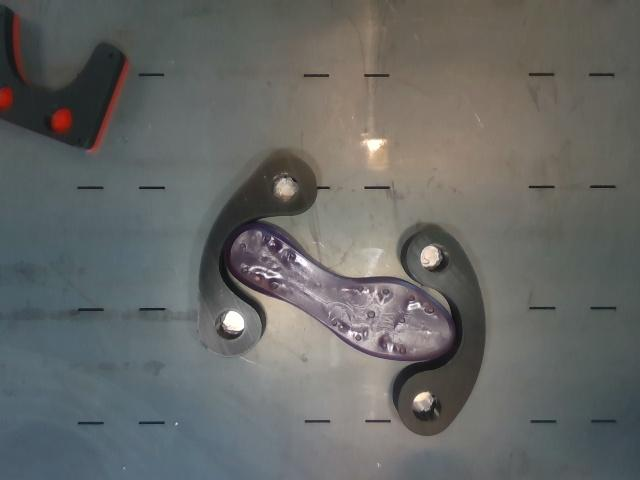shoes: (225, 226, 457, 361)
